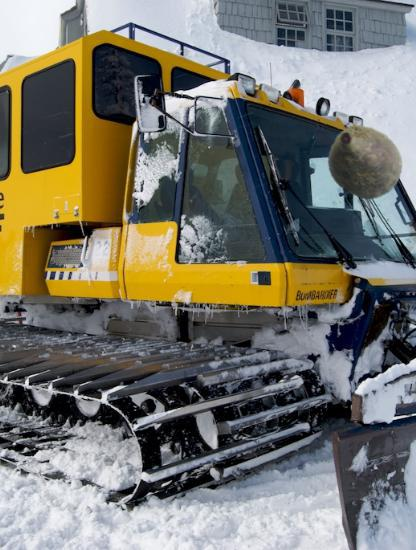Beetroot: (327, 123, 405, 201)
